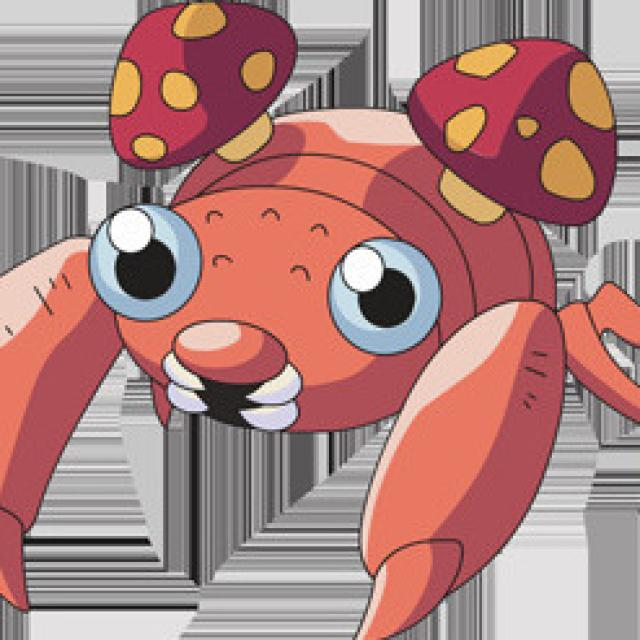Paras: (6, 4, 621, 534)
